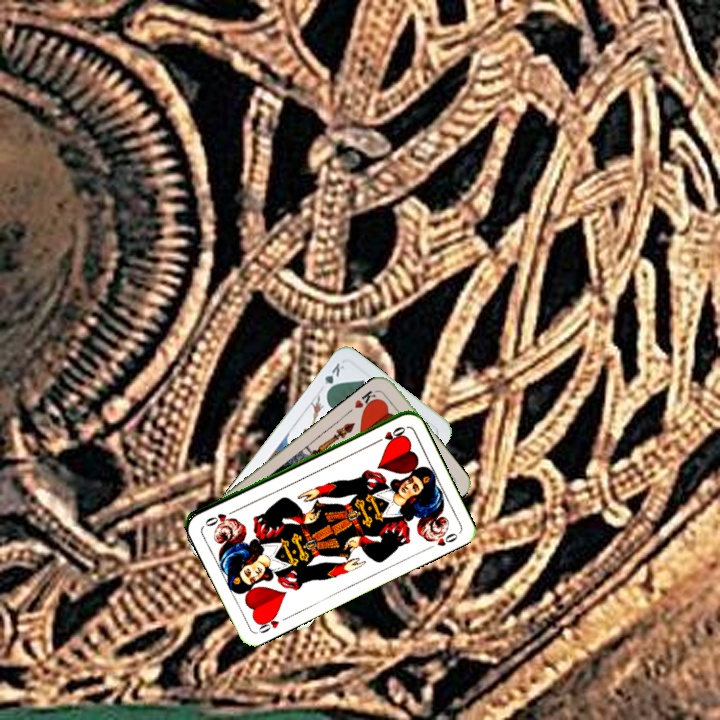GK: (318, 358, 347, 396)
HK: (350, 386, 382, 415)
HO: (253, 609, 291, 636), (371, 423, 408, 447)
